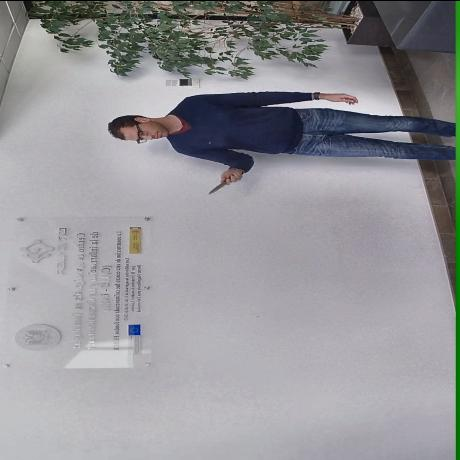1: (104, 87, 460, 186)
weapon: (208, 173, 238, 194)
